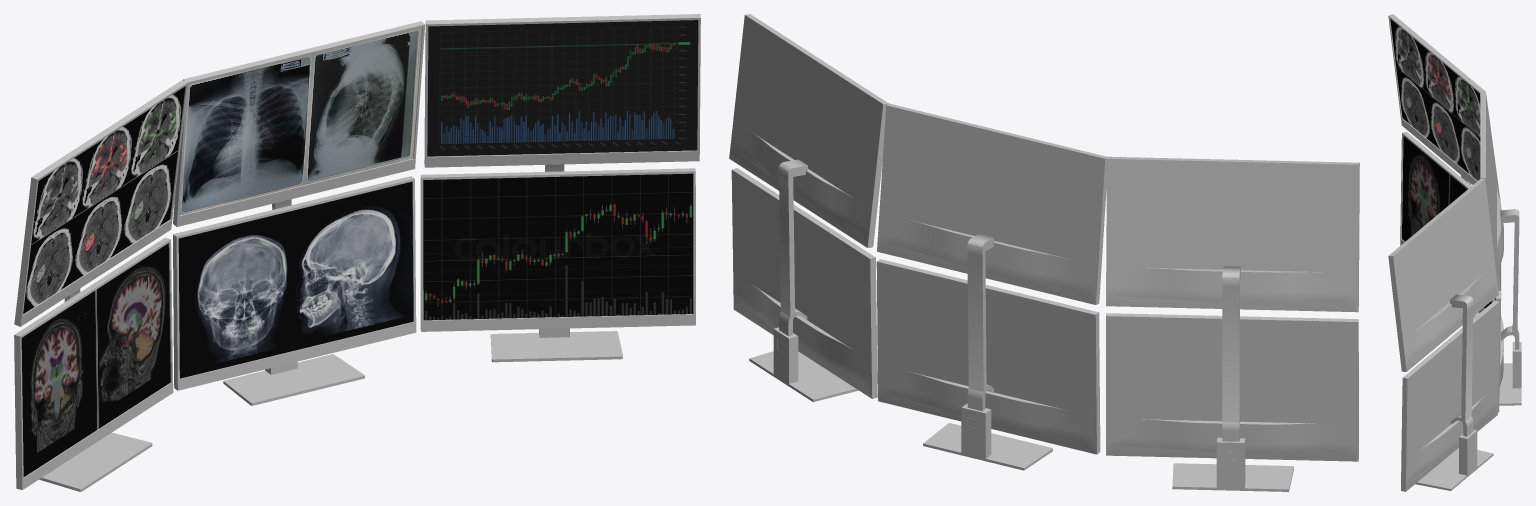
Rendered from Computer.fbx.
3 renders of one model, left to right at view 1: azimuth 30°, elevation 25°; view 2: azimuth 150°, elevation 25°; view 3: azimuth 270°, elevation 25°, orthographic. The views are drawn at different scales.
Parts seen in each view (by area): view 1: Computer; view 2: Computer; view 3: Computer.
Part boxes in pixels (<box>): Computer: <box>14,14,700,491</box>; Computer: <box>729,14,1359,491</box>; Computer: <box>1388,14,1521,491</box>.
Bounding box in the file's own units: 134 × 63.22 × 30.49.
